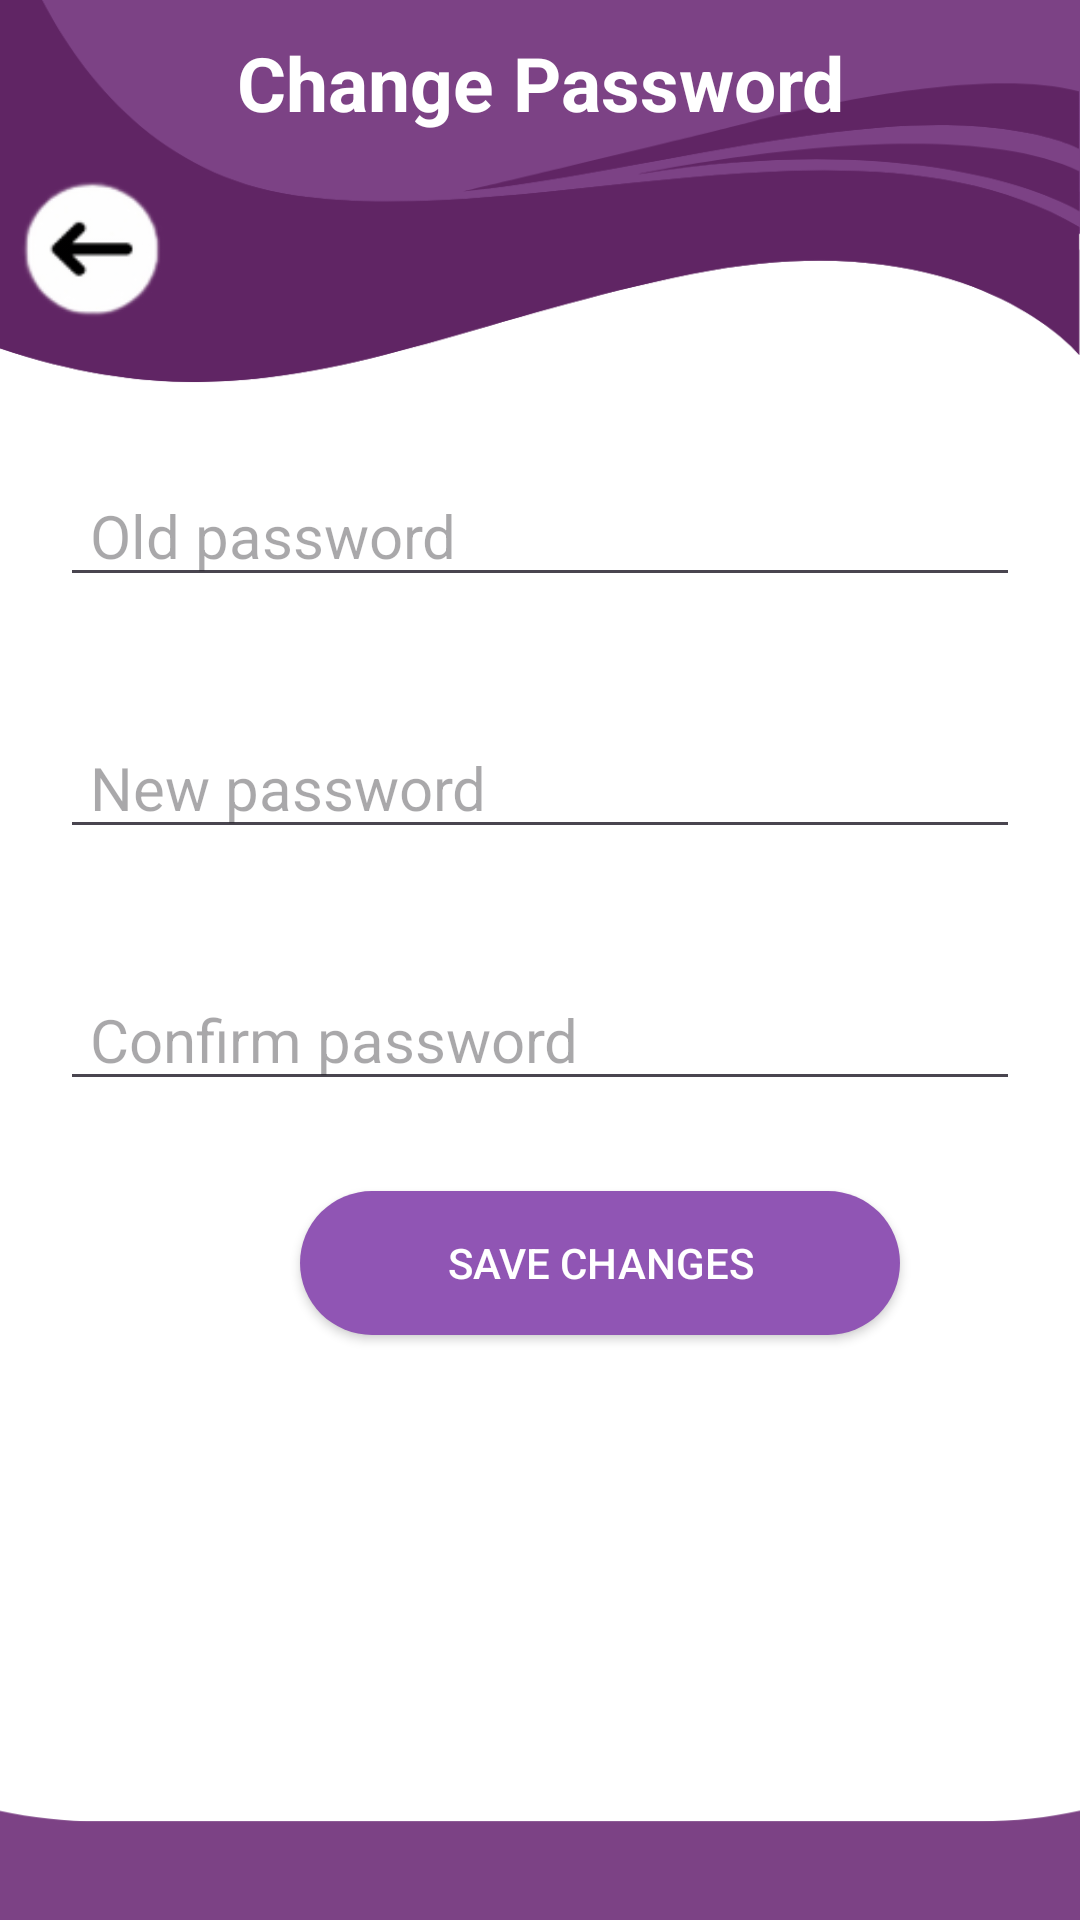

Locate icon controls on the screen. Image size 1080x1920, boxes as (x1, y1, x2, y2).
back: (24, 183, 160, 315)
